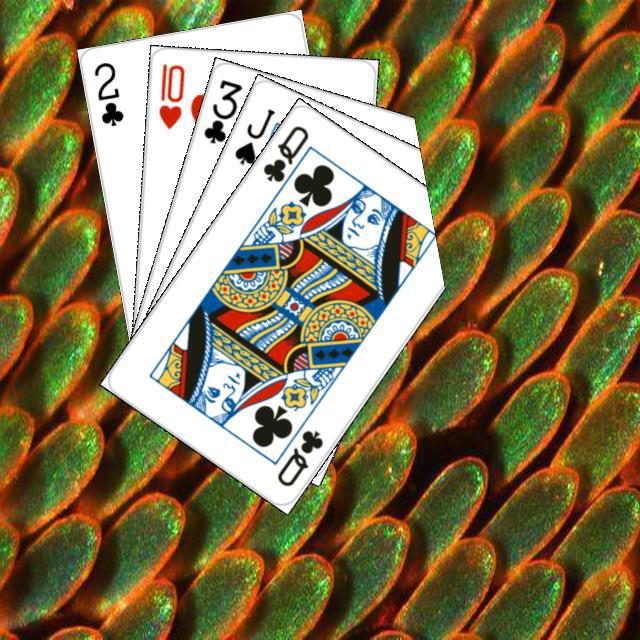10h: (153, 58, 186, 131)
2c: (89, 57, 126, 128)
3c: (198, 74, 244, 146)
Js: (229, 104, 277, 167)
Qc: (257, 120, 316, 197), (272, 425, 325, 489)
